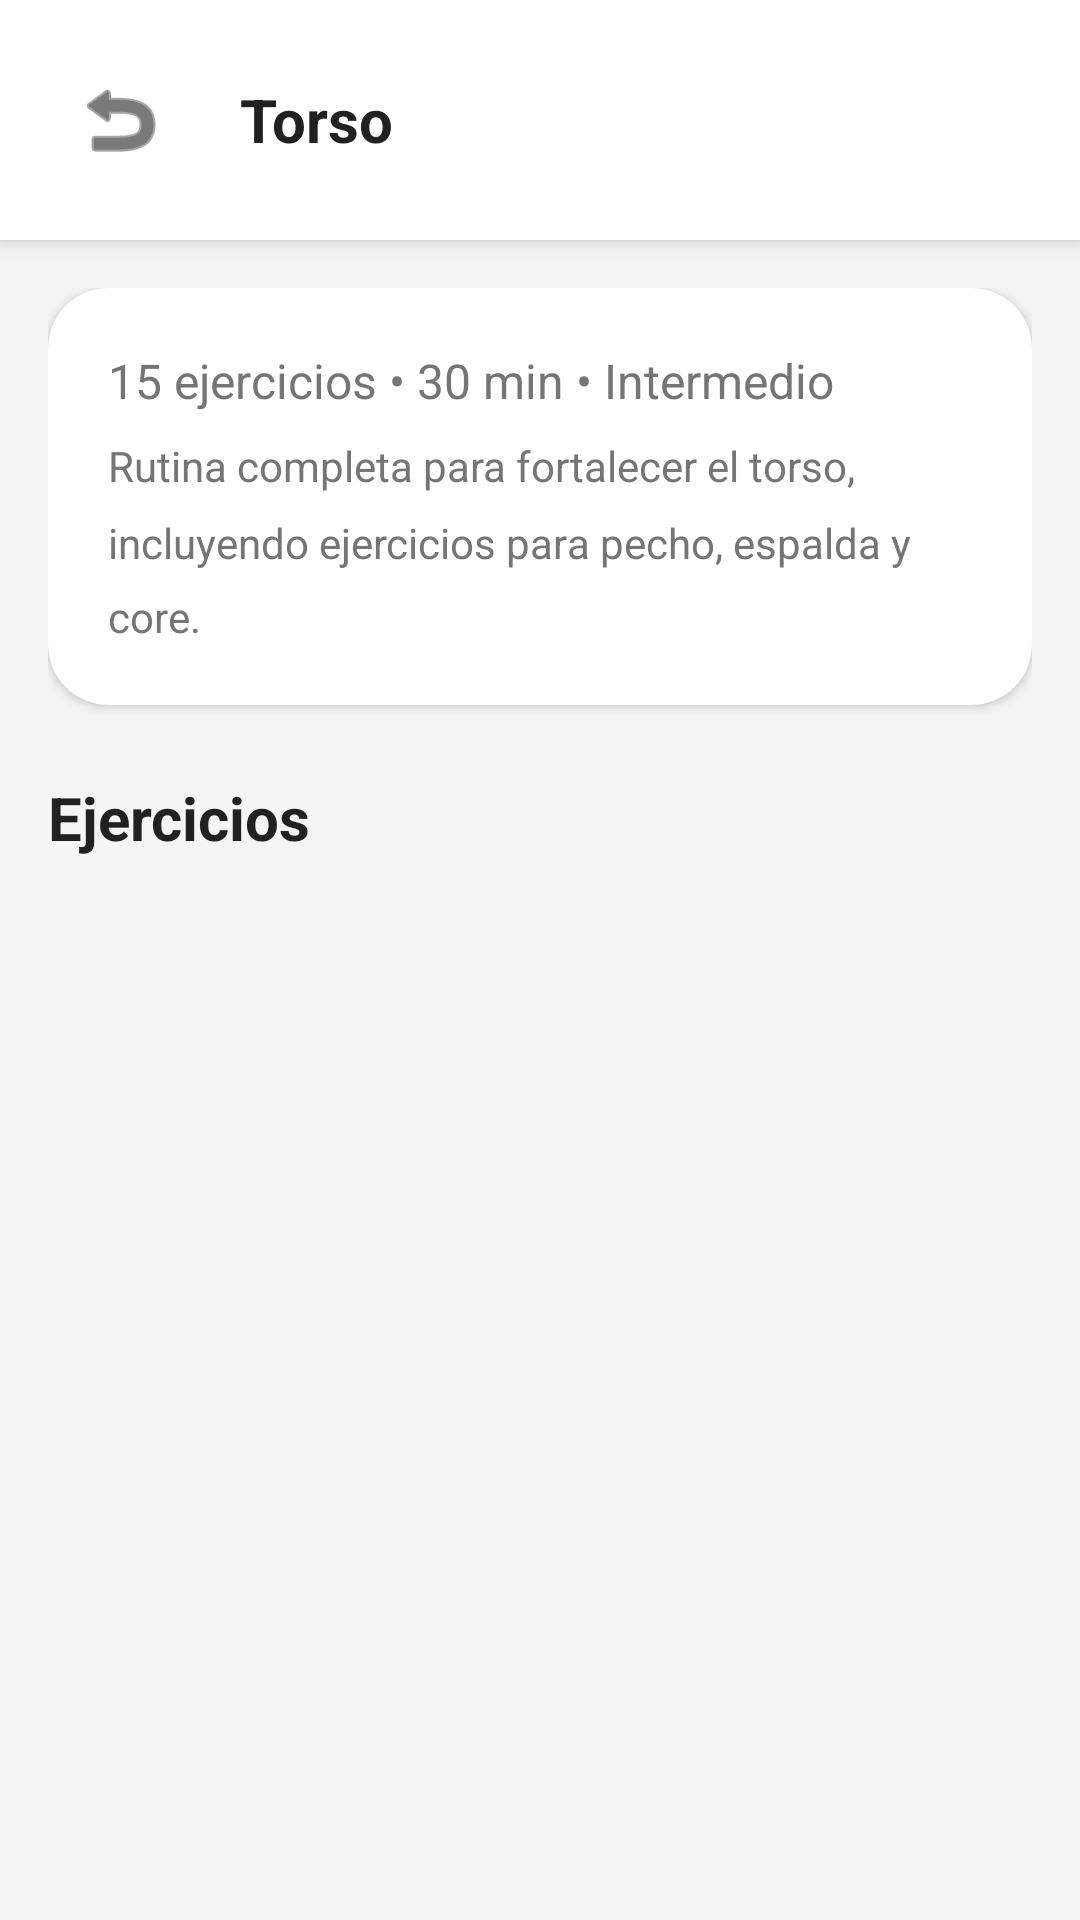

Screen size 1080 × 1920. Icon name, then its box in pixels as {"left": x1, "top": y1, "right": x2, "bottom": y2}:
Volver: {"left": 87, "top": 89, "right": 156, "bottom": 152}
